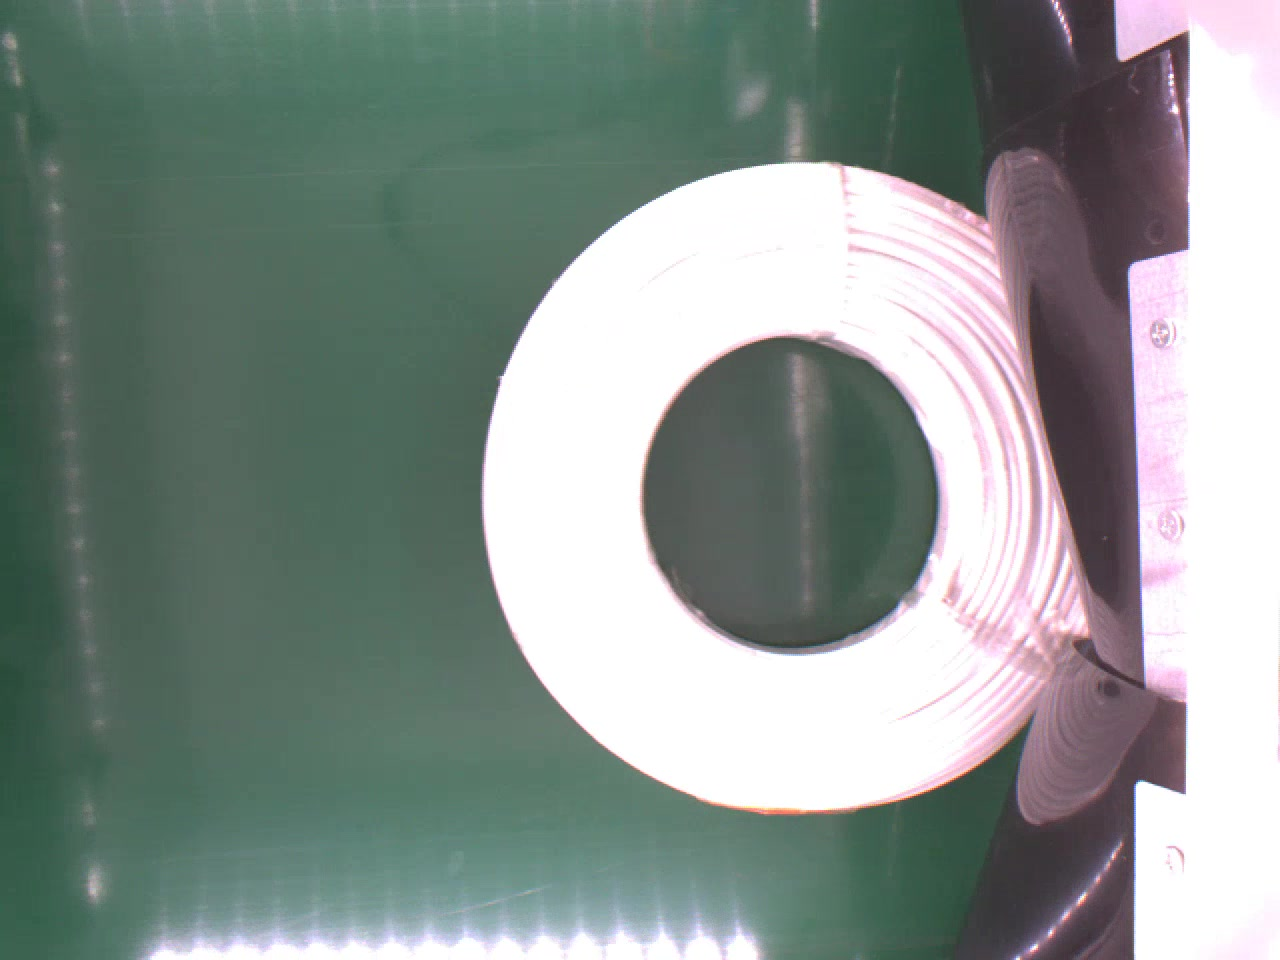white: (480, 157, 1096, 817)
